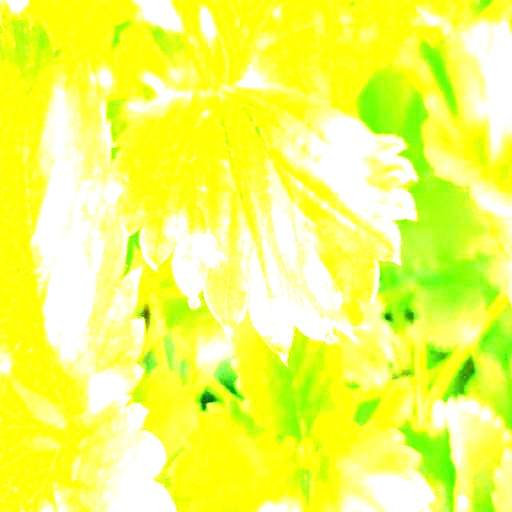Powdery Mildew Leaf: (105, 84, 418, 366)
